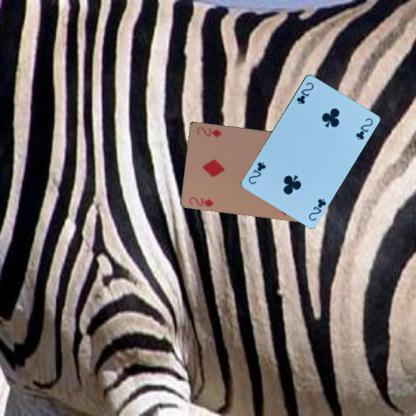2c: (293, 79, 315, 105), (306, 196, 327, 222)
2d: (187, 194, 215, 208)
